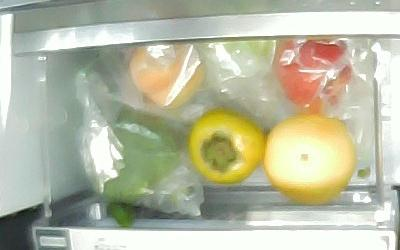apple_vinyl: (273, 40, 351, 114)
broccoli_vinyl: (103, 110, 188, 206)
grapefruit: (264, 115, 356, 202)
peach_vinyl: (130, 46, 204, 109)
persimmon: (188, 111, 265, 183)
